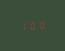one: (18, 20, 26, 31)
zero: (37, 19, 45, 30), (28, 20, 36, 30)
